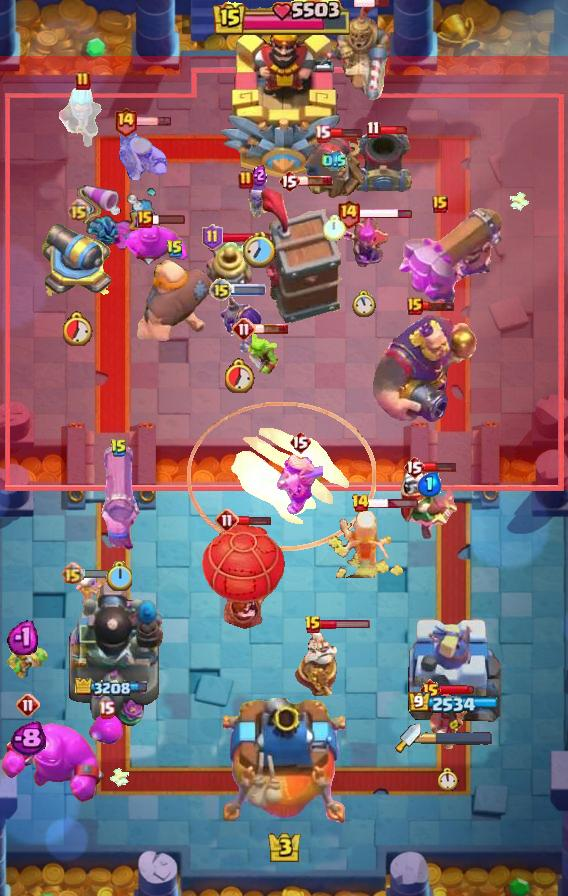arrows: (111, 127, 167, 181), (277, 452, 323, 516)
balloon: (135, 259, 215, 347)
bar: (405, 611, 501, 731)
battle-healer: (96, 447, 142, 551)
bowler: (427, 692, 469, 750)
cannon-cart: (199, 520, 289, 630)
clock: (213, 0, 355, 38)
clone: (0, 722, 108, 804)
dart-goblin: (259, 186, 343, 324)
electro-spirit: (10, 721, 46, 757), (6, 617, 37, 654), (418, 472, 442, 497), (321, 150, 346, 172), (252, 162, 267, 185)
elixir: (243, 232, 276, 268), (63, 310, 93, 345), (225, 359, 255, 393), (106, 561, 132, 591), (352, 290, 376, 318), (322, 215, 345, 241), (437, 767, 458, 791)
elixir-collector: (291, 627, 359, 701)
emote: (358, 207, 413, 220), (221, 231, 272, 245), (367, 498, 419, 510), (320, 619, 372, 630), (297, 175, 333, 187), (150, 213, 186, 225), (230, 284, 266, 296), (420, 300, 456, 312), (253, 323, 289, 335), (439, 684, 475, 696), (82, 568, 117, 580), (329, 127, 363, 139), (423, 461, 457, 473), (136, 117, 173, 128), (236, 514, 272, 525), (378, 125, 410, 135), (354, 0, 391, 8)
evolution-symbol: (339, 215, 389, 271)
furnace: (397, 205, 505, 305)
giant-snowball: (0, 636, 48, 680)
goblin: (243, 183, 275, 223)
goblin-ball: (218, 288, 262, 354)
goblin-drill: (200, 237, 254, 295)
heal-spirit: (73, 571, 107, 603)
ice-wizard: (188, 401, 376, 551)
king-tower: (219, 23, 349, 181), (223, 698, 345, 826)
king-tower-bar: (421, 731, 493, 745)
lightning: (368, 311, 480, 423)
miner: (88, 716, 124, 746)
mortar: (55, 82, 111, 150)
musketeer: (352, 128, 414, 196)
poison: (326, 504, 414, 578)
ram-rider: (330, 0, 390, 102)
royal-giant-evolution: (300, 131, 368, 201)
royal-recruit: (42, 218, 114, 302)
selected: (409, 692, 500, 715), (75, 677, 153, 699)
skeleton-king: (400, 468, 460, 544)
text: (335, 198, 360, 229), (114, 107, 138, 138), (209, 278, 233, 302), (232, 317, 256, 341), (215, 508, 239, 532), (16, 693, 40, 717), (67, 198, 90, 222), (61, 562, 84, 586), (418, 678, 441, 702), (201, 224, 222, 250), (278, 169, 300, 193), (289, 430, 311, 454), (403, 455, 425, 479), (351, 493, 370, 513), (166, 239, 184, 259), (110, 438, 128, 458), (304, 615, 322, 635), (313, 125, 330, 144), (98, 701, 115, 720), (75, 71, 91, 91), (238, 170, 254, 190), (432, 195, 448, 213), (137, 210, 153, 228), (407, 297, 423, 315), (367, 120, 382, 139)
tornado: (120, 216, 190, 274)
tower-bar: (63, 579, 165, 731)
zap: (246, 332, 279, 375)
